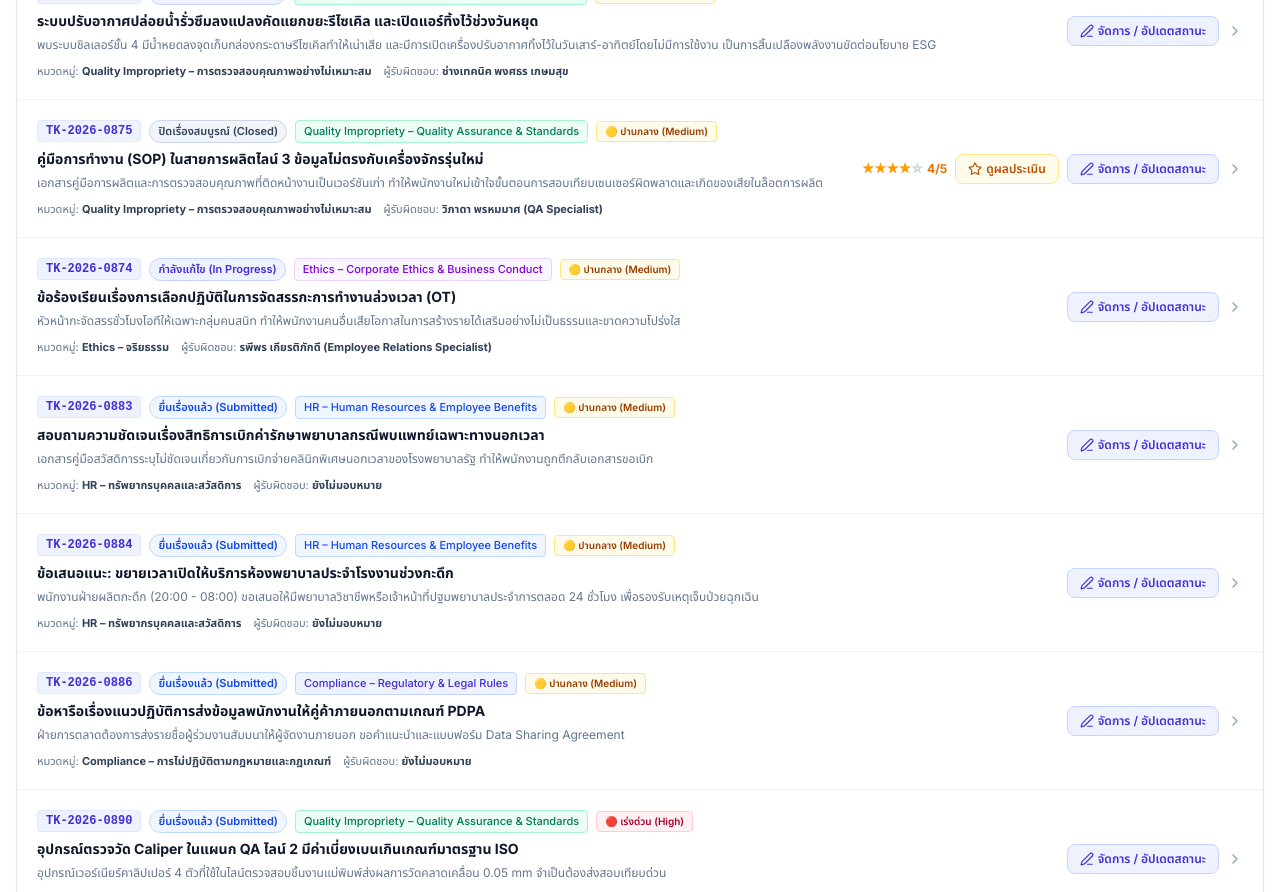
Scenario: GatekeeperInbox › ticket rows › opens a ticket from the row by click and keyboard but not from its triage button
The image size is (1280, 892).
(page scrolled)
Click the button "TK-2026-0883": (640, 445) [17,376,1263,514]
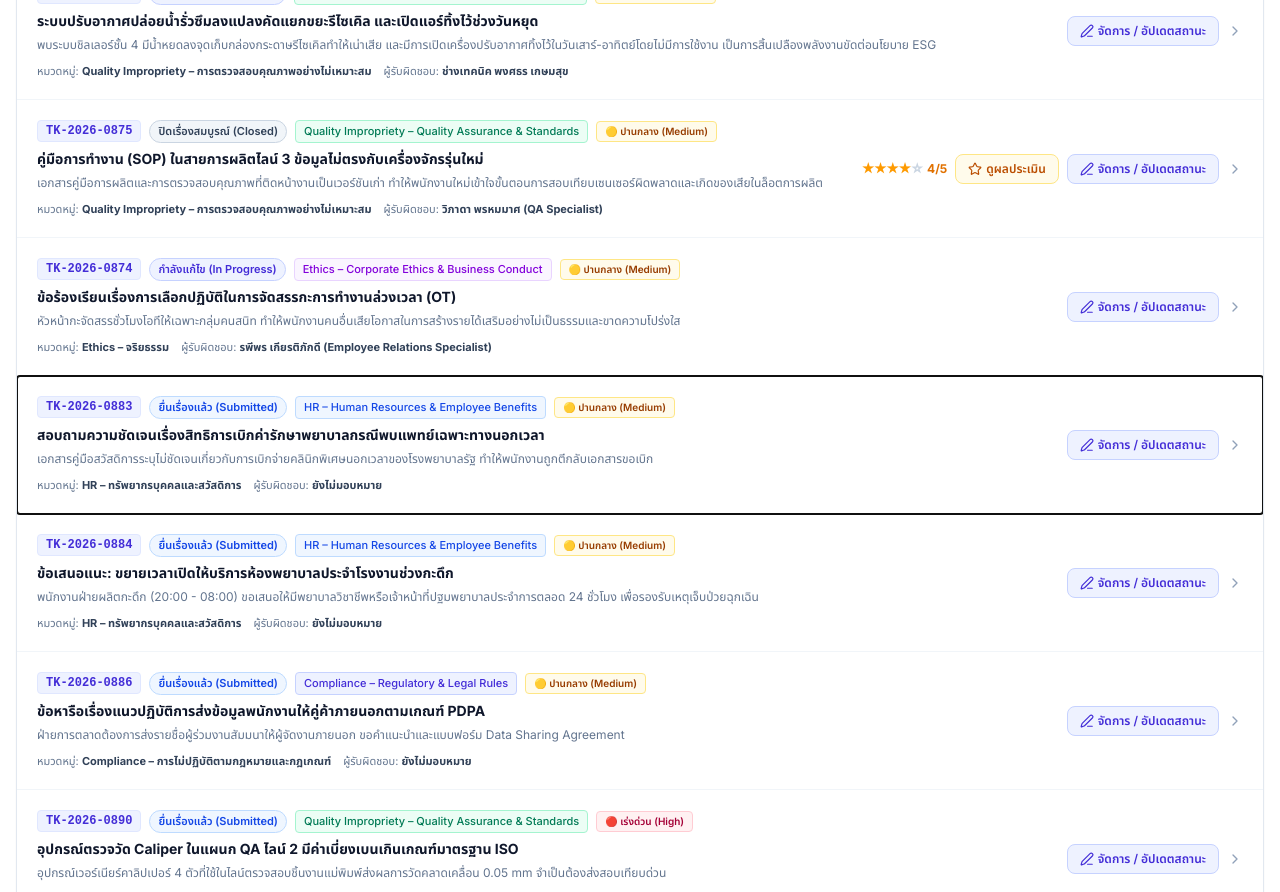
Press Enter
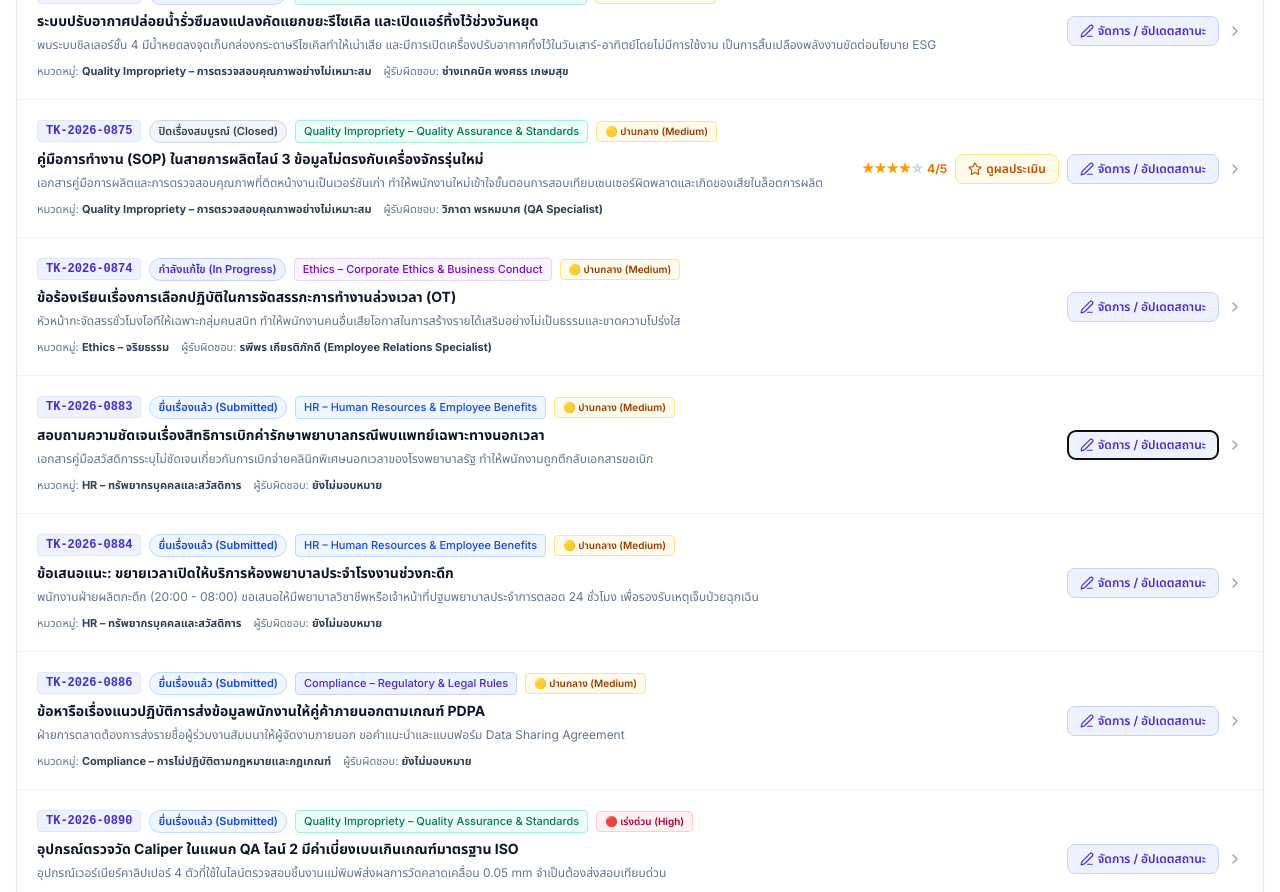
Press Enter
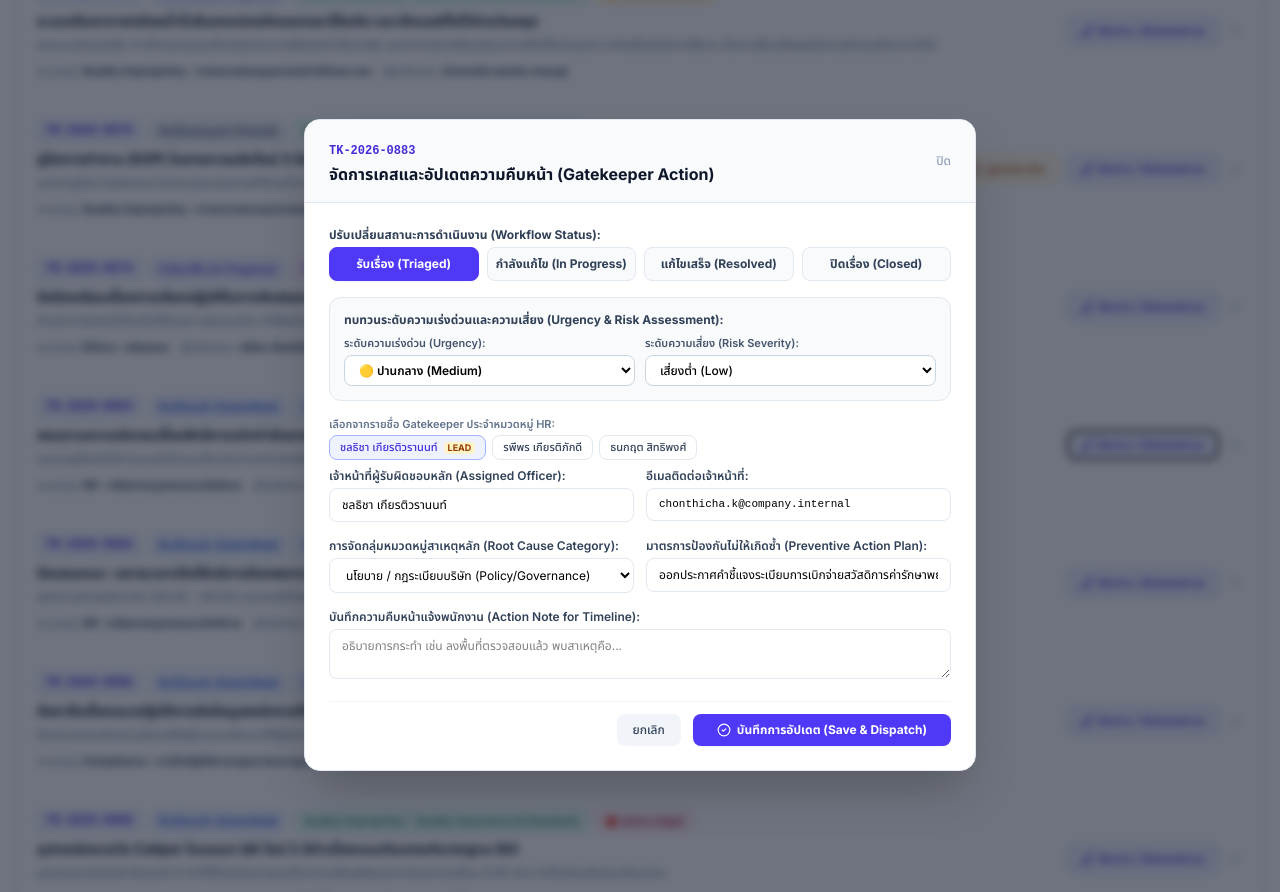
Check: the heading "จัดการเคสและอัปเดตความคืบหน้า (Gatekeeper Action)" is shown, box [329,162,714,186]
